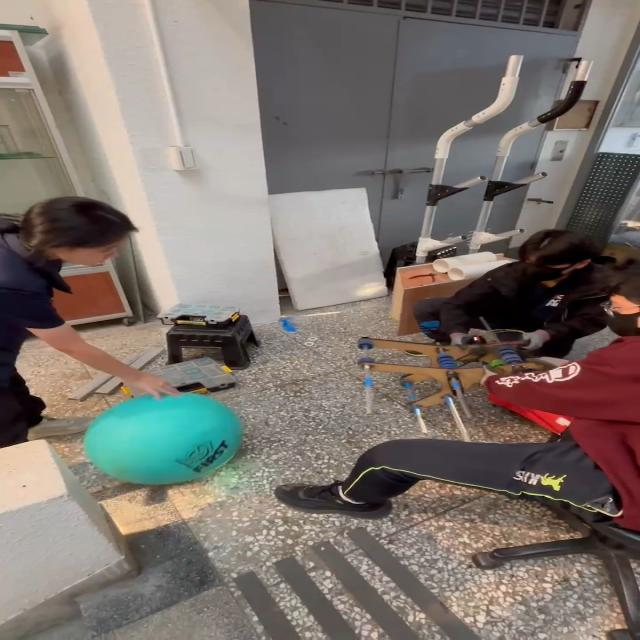ALGAE: (80, 392, 244, 486)
